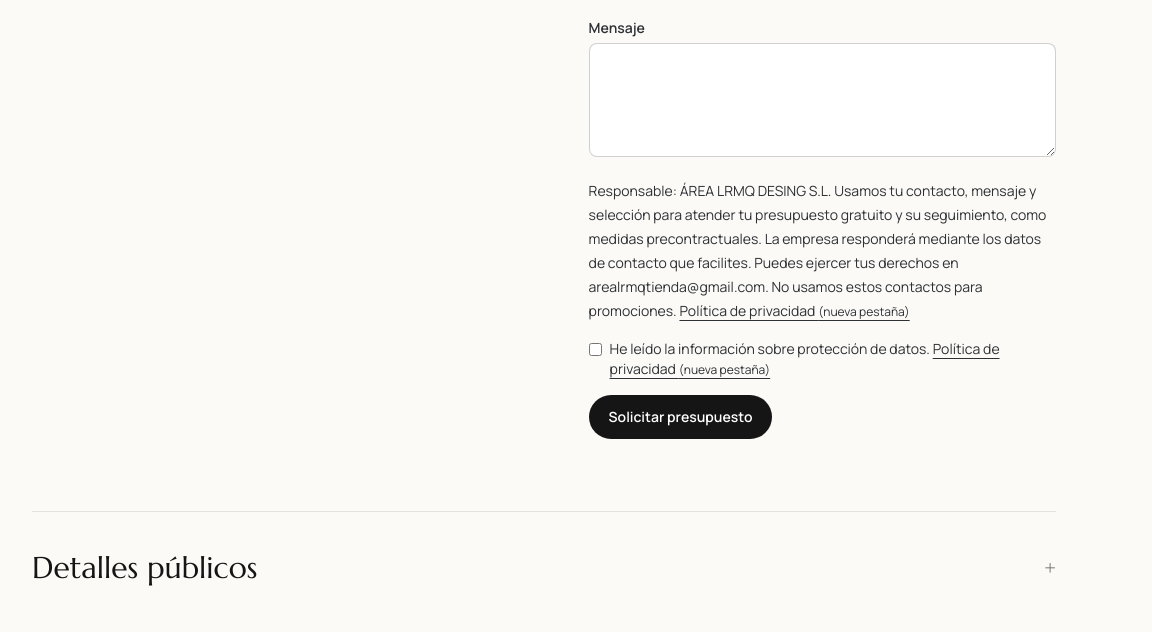
ProductDetailPage › renders readable public values and never exposes structured objects
(page scrolled)
Click the button "Detalles públicos +" at [145, 568], box [32,544,1056,592]
(page scrolled)
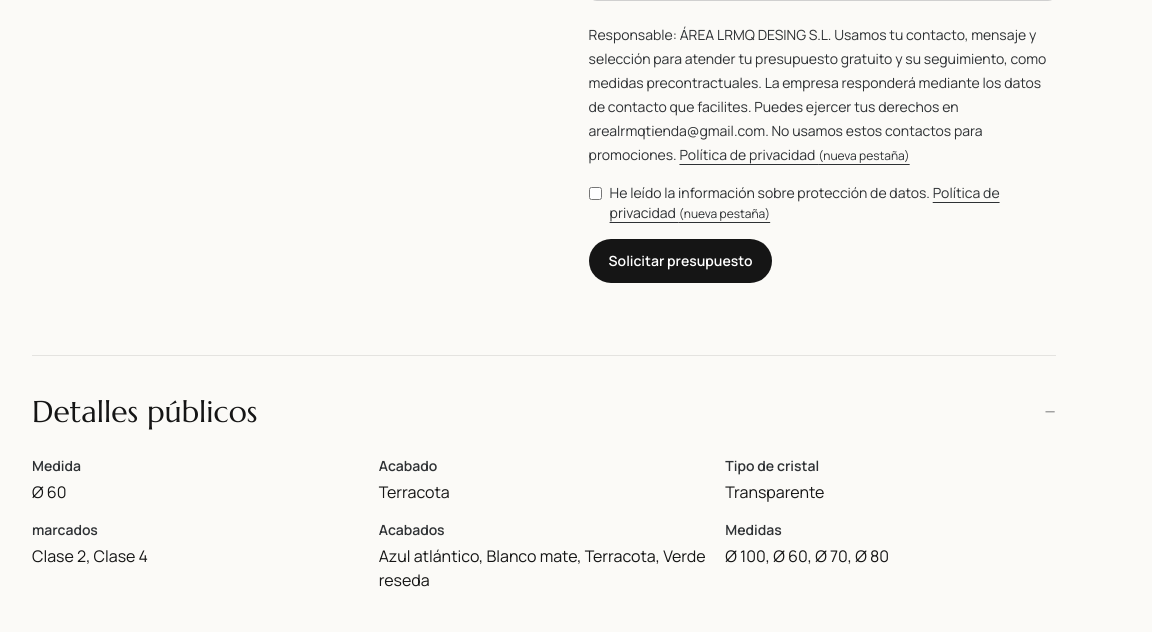
Expected: the button "Detalles públicos −" is expanded, [32,388,1056,436]
Expected: the text "Clase 2, Clase 4" is shown, [32,545,148,567]
